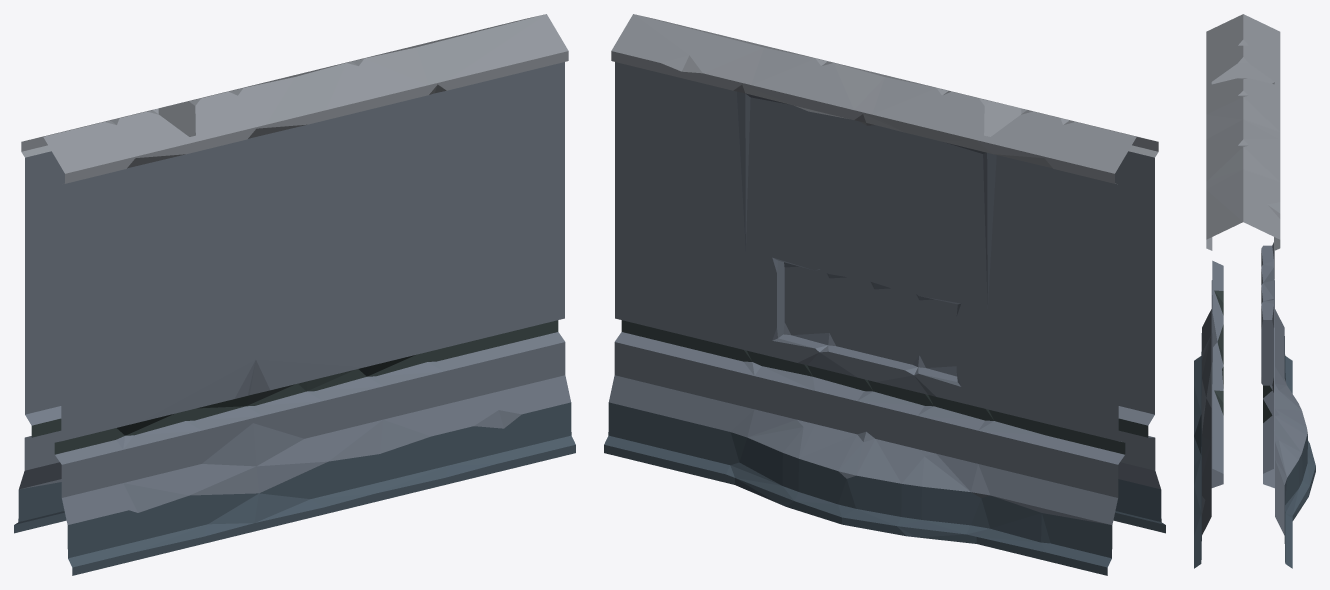
The model's file is Wall3.fbx.
3 views of the same model, side by side, from view 1: azimuth 30°, elevation 25°; view 2: azimuth 150°, elevation 25°; view 3: azimuth 270°, elevation 25° (orthographic). The views are drawn at different scales.
Parts seen in each view (by area): view 1: Wall3; view 2: Wall3; view 3: Wall3.
Part boxes in pixels (x1,y1,x2,y2): Wall3: (14,14,575,575); Wall3: (604,14,1165,575); Wall3: (1194,14,1315,568).
Bounding box in the file's own units: 600 × 476 × 148.
